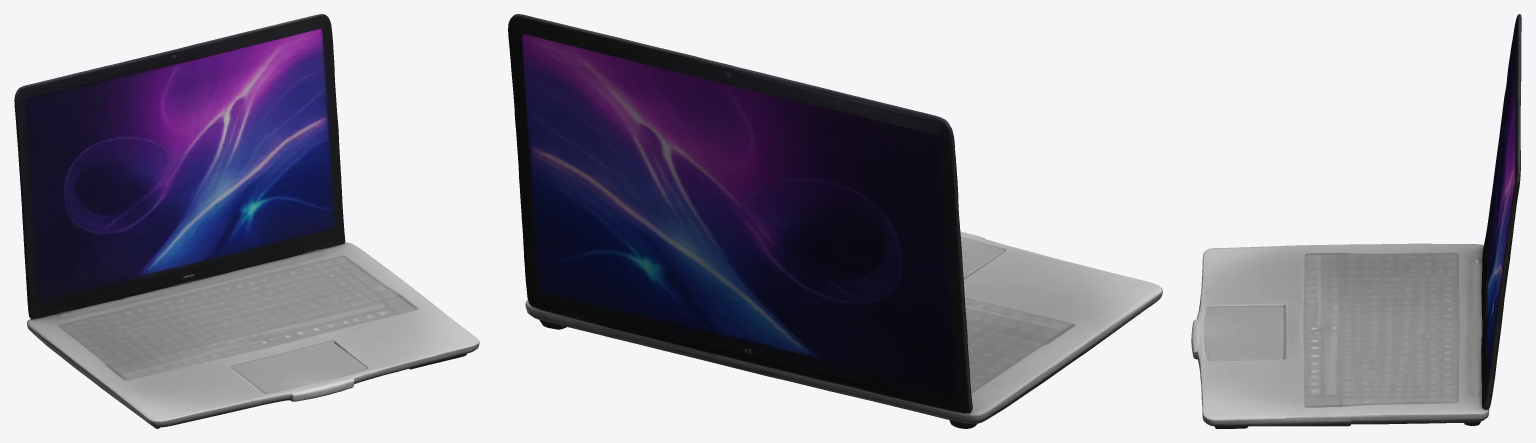
The model's file is laptop_silver_purple.glb.
3 renders of one model, left to right at view 1: azimuth 30°, elevation 25°; view 2: azimuth 150°, elevation 25°; view 3: azimuth 270°, elevation 25°, orthographic. The views are drawn at different scales.
Parts seen in each view (by area): view 1: geometry_0; view 2: geometry_0; view 3: geometry_0.
Part boxes in pixels (x1,y1,x2,y2): geometry_0: (14,14,479,428); geometry_0: (508,14,1162,428); geometry_0: (1191,14,1521,428).
Bounding box in the file's own units: 0.9969 × 0.6928 × 0.8064.
1 material, 1 textured.
